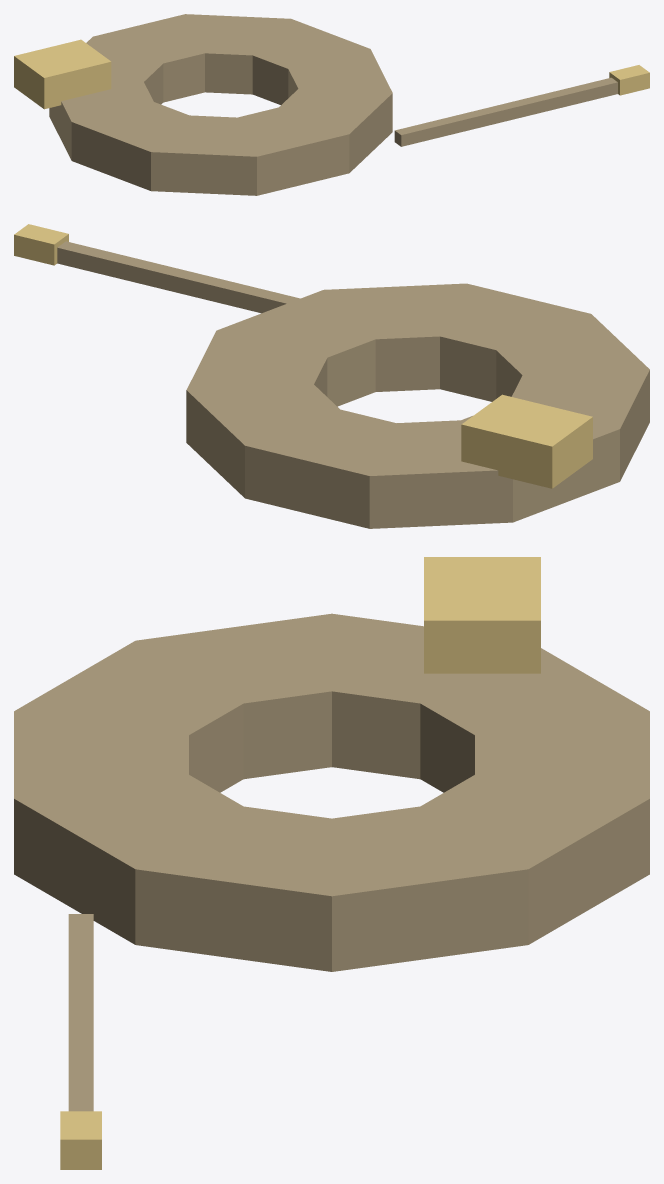
Rendered from prop-drawstring-cord-coil.fbx.
3 views of the same model, one above another, from view 1: azimuth 30°, elevation 25°; view 2: azimuth 150°, elevation 25°; view 3: azimuth 270°, elevation 25° (orthographic). The views are drawn at different scales.
Visible parts, largest first — view 1: prop-drawstring-cord-coil; view 2: prop-drawstring-cord-coil; view 3: prop-drawstring-cord-coil.
Boxes of the visible parts, x1,y1,x2,y2 form: prop-drawstring-cord-coil: (14, 14, 649, 195); prop-drawstring-cord-coil: (14, 224, 649, 528); prop-drawstring-cord-coil: (14, 557, 649, 1169).
Bounding box in the file's own units: 13.7 × 1.7 × 7.61.
